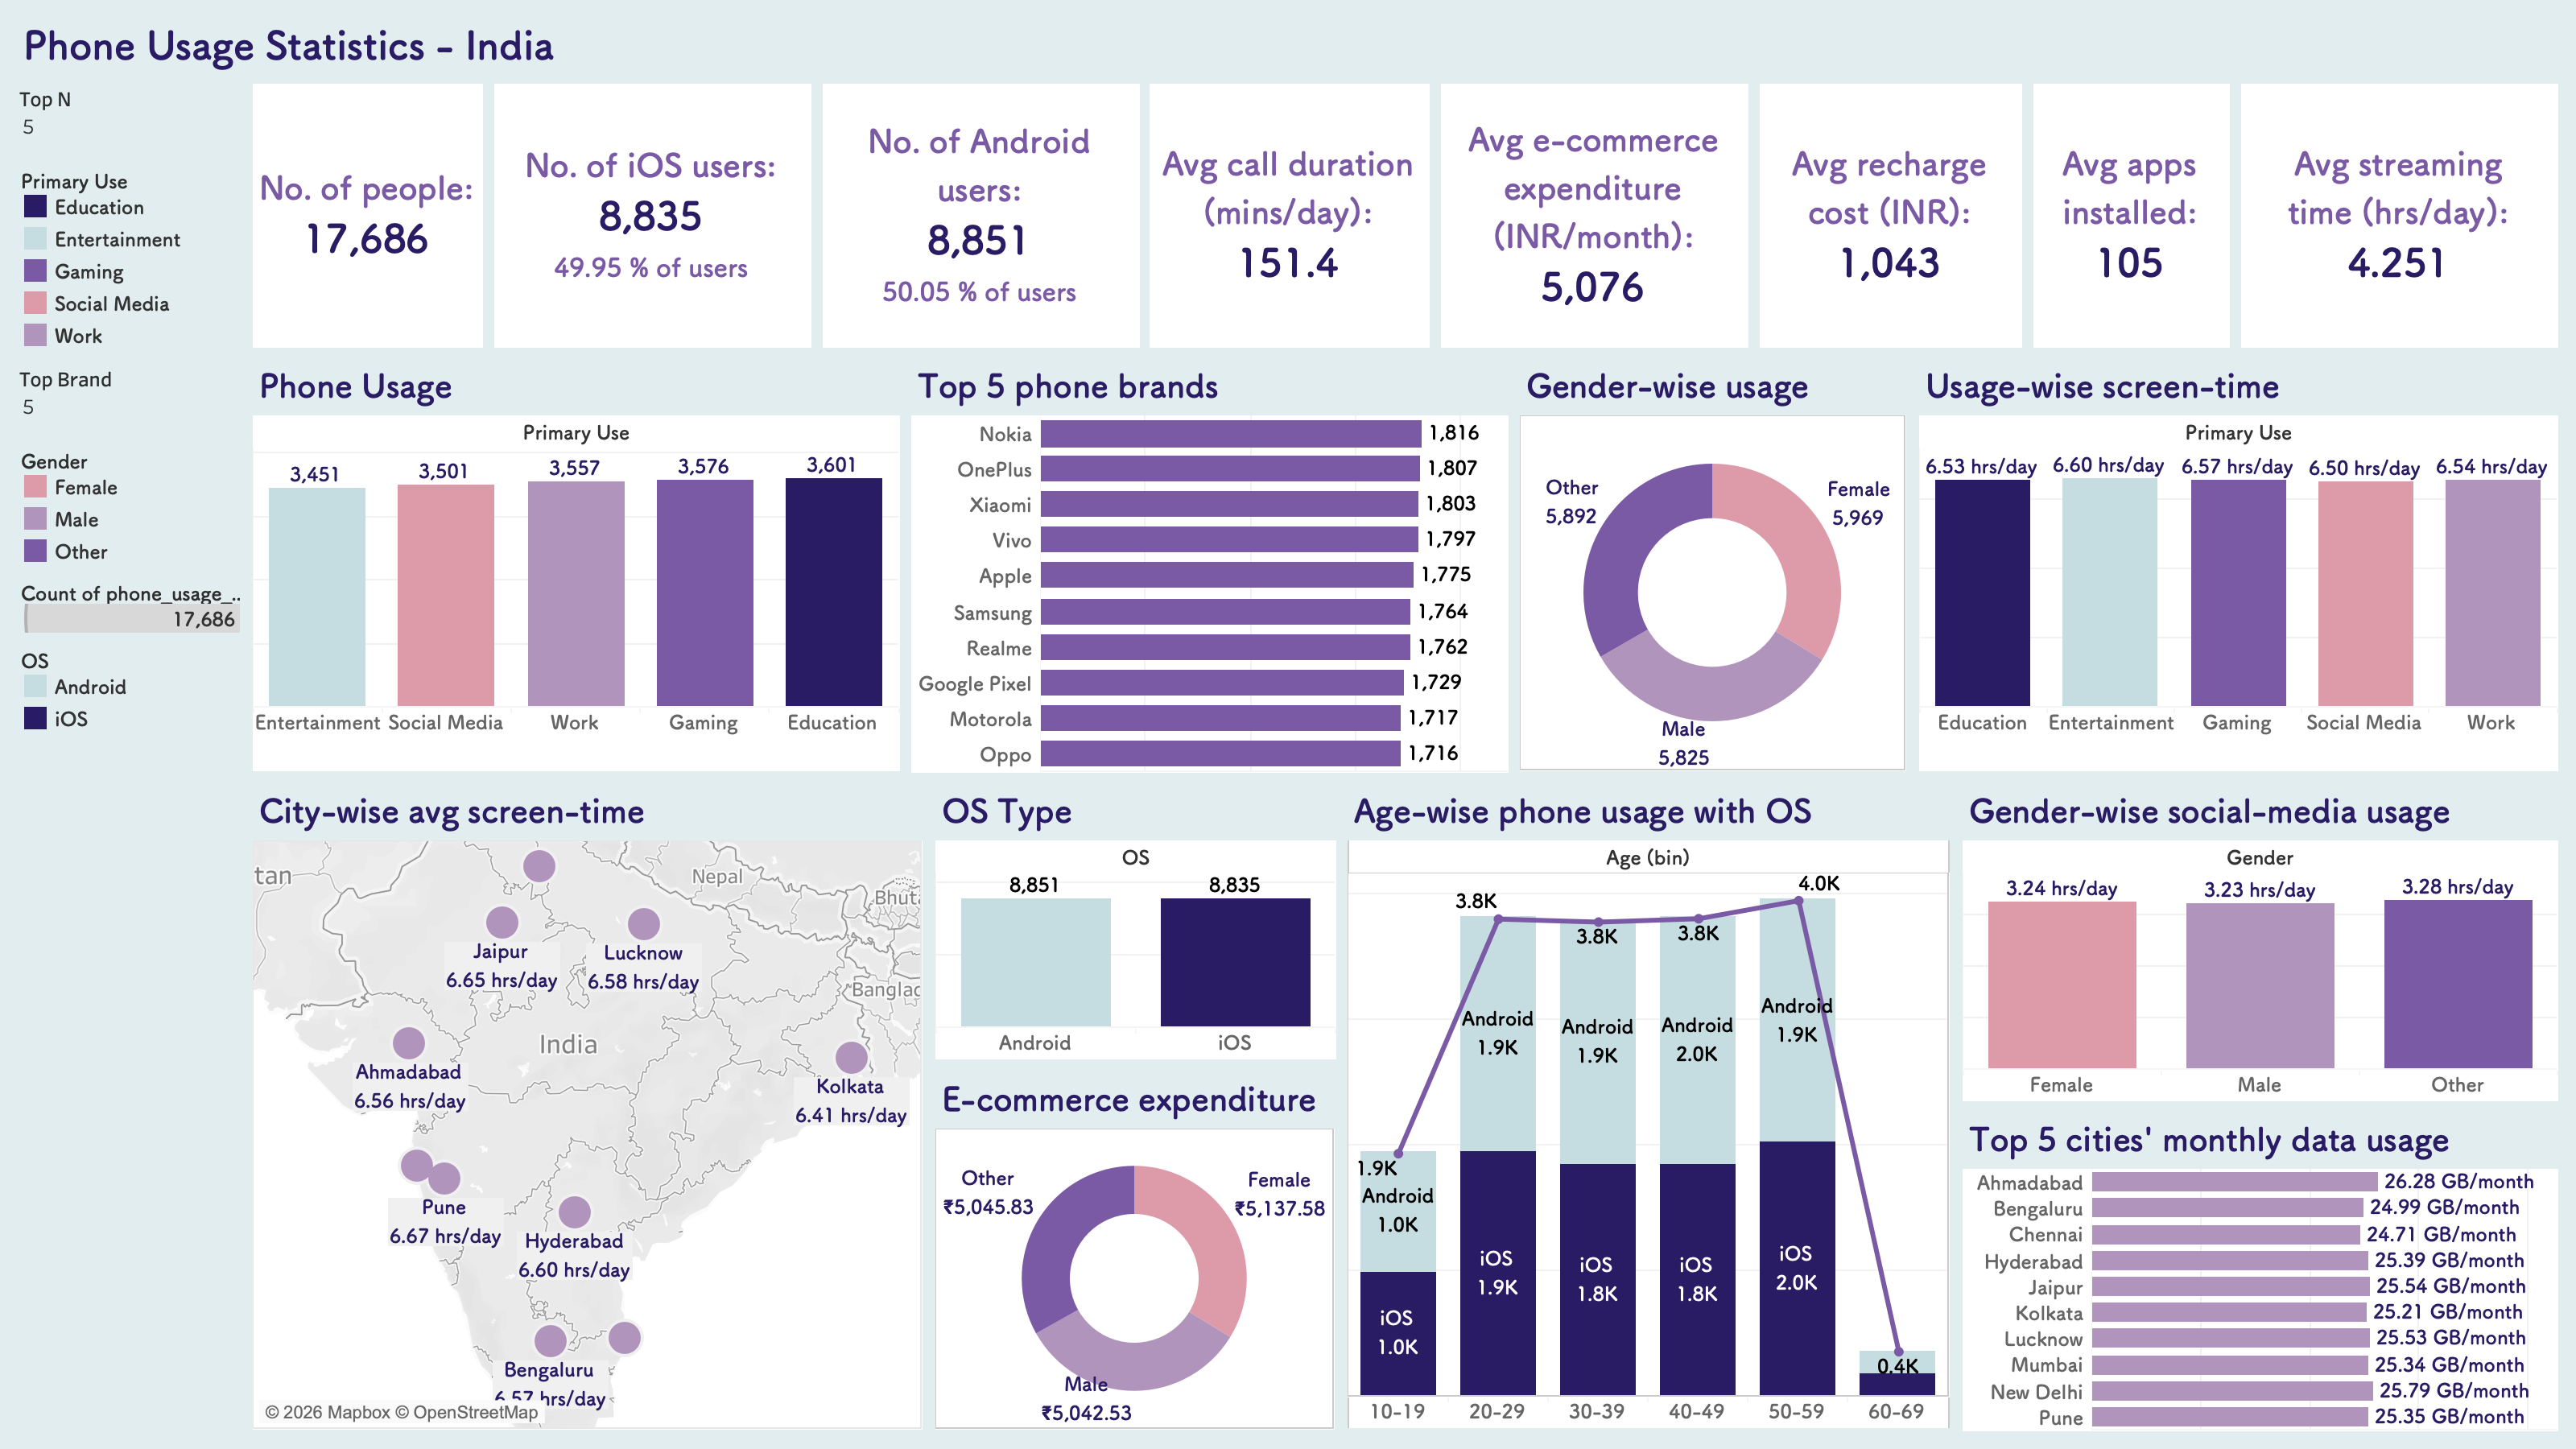

The page's visual inventory and layout, read from the dashboard file:
{"tool":"tableau","page":{"name":"Dashboard 1","canvas":[1600,900],"ordinal":0},"visuals":[{"type":"title","box":[8,8,1584,40]},{"type":"parameter","param":"[Parameters].[Parameter 1]","box":[8,48,145,52]},{"type":"worksheet","title":"Count","mark":"Automatic","box":[153,48,150,171.2]},{"type":"worksheet","title":"iOS","mark":"Automatic","box":[303,48,203.6,171.2]},{"type":"worksheet","title":"Android","mark":"Automatic","box":[506.7,48,203.6,171.2]},{"type":"worksheet","title":"Call_duration","mark":"Automatic","box":[710.3,48,181,171.2]},{"type":"worksheet","title":"E-comm_spend","mark":"Automatic","box":[891.3,48,198,171.2]},{"type":"worksheet","title":"Recharge_cost","mark":"Automatic","box":[1089.3,48,170,171.2]},{"type":"worksheet","title":"No_of_apps","mark":"Automatic","box":[1259.3,48,129,171.2]},{"type":"worksheet","title":"streaming","mark":"Automatic","box":[1388.3,48,203.6,171.2]},{"type":"legend","title":"Chart1","param":"[federated.12bnyhp13uoi1h14ocqsg1lcdqpd].[none:Primary Use:nk]","box":[8,100,145,122]},{"type":"worksheet","title":"Chart1","mark":"Bar","rows":["phone_usage_india.csv_D3CF0BCCD63F4CFBA9C6F962C40FB40B"],"cols":["Primary Use"],"box":[153,219.2,409,263.8]},{"type":"worksheet","title":"Chart9","mark":"Bar","rows":["Phone Brand"],"cols":["phone_usage_india.csv_D3CF0BCCD63F4CFBA9C6F962C40FB40B"],"box":[562,219.2,378,263.8]},{"type":"worksheet","title":"Chart2","mark":"Pie","rows":["Calculation_3946842191718416386","Calculation_3946842191718453252"],"box":[940,219.2,248,263.8]},{"type":"worksheet","title":"Chart5","mark":"Automatic","rows":["Screen Time"],"cols":["Primary Use"],"box":[1188,219.2,404,263.8]},{"type":"parameter","param":"[Parameters].[Parameter 2]","box":[8,222,145,52]},{"type":"legend","title":"Chart2","param":"[federated.12bnyhp13uoi1h14ocqsg1lcdqpd].[none:Gender:nk]","box":[8,274,145,82]},{"type":"legend","title":"Chart2","param":"[federated.12bnyhp13uoi1h14ocqsg1lcdqpd].[__tableau_internal_object_id__].[cnt:p","box":[8,356,145,42]},{"type":"legend","title":"Chart8","param":"[federated.12bnyhp13uoi1h14ocqsg1lcdqpd].[none:OS:nk]","box":[8,398,145,62]},{"type":"worksheet","title":"Chart4","mark":"Automatic","box":[153,483,424,409]},{"type":"worksheet","title":"Chart10","mark":"Bar","rows":["OS"],"cols":["OS"],"box":[577,483,256,179]},{"type":"worksheet","title":"Chart8","mark":"Automatic","rows":["User ID","User ID"],"cols":["Age (bin)"],"box":[833,483,382,409]},{"type":"worksheet","title":"Chart3","mark":"Bar","rows":["Social Media Time"],"cols":["Gender"],"box":[1215,483,377,204.5]},{"type":"worksheet","title":"Chart7","mark":"Pie","rows":["Calculation_1039768574351691777","Calculation_1039768574351724547"],"box":[577,662,256,230]},{"type":"worksheet","title":"Chart6","mark":"Automatic","rows":["Location"],"cols":["Data Usage"],"box":[1215,687.5,377,204.5]}]}

Visuals, with their boxes in screenshot pixels (x1, y1, x2, y2), scaled from the page's 1600x900 canvas onto the 2576x1449 screenshot:
title: bbox=[13, 13, 2563, 77]
parameter: bbox=[13, 77, 246, 161]
"Count" worksheet: bbox=[246, 77, 488, 353]
"iOS" worksheet: bbox=[488, 77, 815, 353]
"Android" worksheet: bbox=[815, 77, 1144, 353]
"Call_duration" worksheet: bbox=[1144, 77, 1435, 353]
"E-comm_spend" worksheet: bbox=[1435, 77, 1754, 353]
"Recharge_cost" worksheet: bbox=[1754, 77, 2028, 353]
"No_of_apps" worksheet: bbox=[2028, 77, 2235, 353]
"streaming" worksheet: bbox=[2235, 77, 2563, 353]
"Chart1" legend: bbox=[13, 161, 246, 357]
"Chart1" worksheet (Bar marks): bbox=[246, 353, 905, 778]
"Chart9" worksheet (Bar marks): bbox=[905, 353, 1513, 778]
"Chart2" worksheet (Pie marks): bbox=[1513, 353, 1913, 778]
"Chart5" worksheet: bbox=[1913, 353, 2563, 778]
parameter: bbox=[13, 357, 246, 441]
"Chart2" legend: bbox=[13, 441, 246, 573]
"Chart2" legend: bbox=[13, 573, 246, 641]
"Chart8" legend: bbox=[13, 641, 246, 741]
"Chart4" worksheet: bbox=[246, 778, 929, 1436]
"Chart10" worksheet (Bar marks): bbox=[929, 778, 1341, 1066]
"Chart8" worksheet: bbox=[1341, 778, 1956, 1436]
"Chart3" worksheet (Bar marks): bbox=[1956, 778, 2563, 1107]
"Chart7" worksheet (Pie marks): bbox=[929, 1066, 1341, 1436]
"Chart6" worksheet: bbox=[1956, 1107, 2563, 1436]
